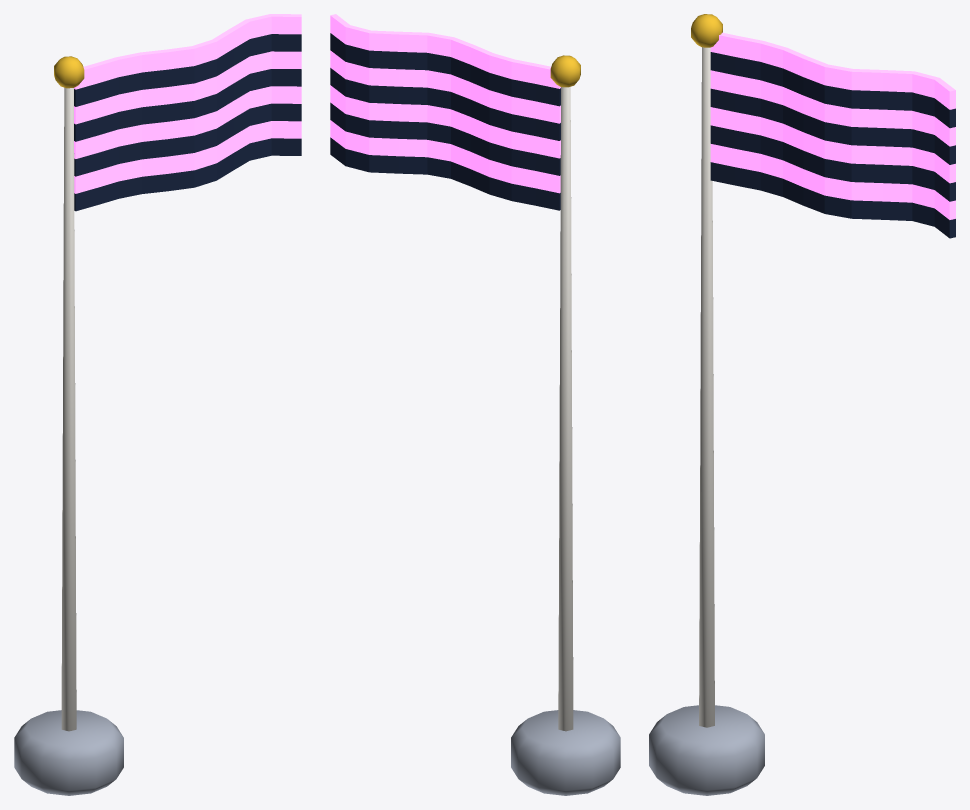
File: W1_Flagpole.fbx
The picture shows the model from 3 angles, left to right: view 1: azimuth 30°, elevation 25°; view 2: azimuth 150°, elevation 25°; view 3: azimuth 330°, elevation 25°; orthographic projection. The views are drawn at different scales.
Parts seen in each view (by area): view 1: Flag, Static; view 2: Flag, Static; view 3: Flag, Static.
Part boxes in pixels (x1,y1,x2,y2): Flag: [74, 14, 301, 211]; Static: [14, 56, 123, 795]; Flag: [330, 14, 560, 210]; Static: [511, 55, 620, 795]; Flag: [710, 32, 955, 238]; Static: [649, 14, 764, 795].
Size of the model in its own units: 2.97 by 7.25 by 1.
